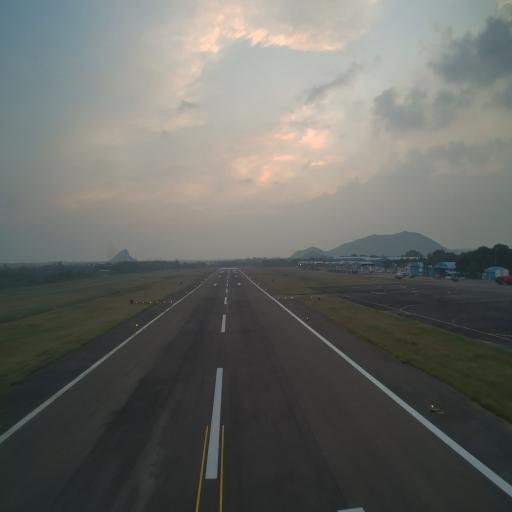on: (430, 400, 435, 411), (135, 321, 139, 329), (307, 315, 309, 322)
